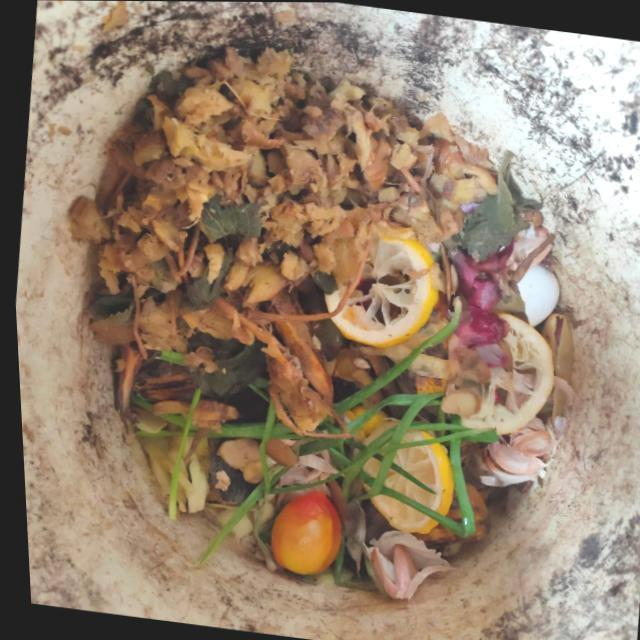left_over_food: (64, 50, 496, 517)
